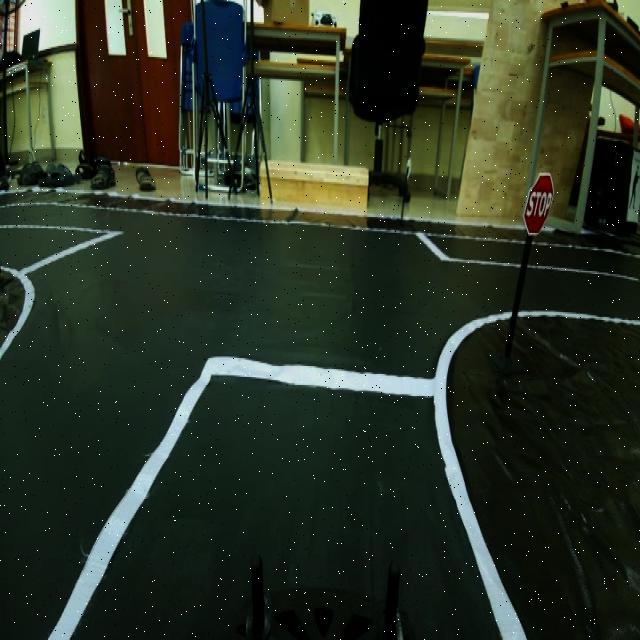stop: (519, 164, 557, 242)
